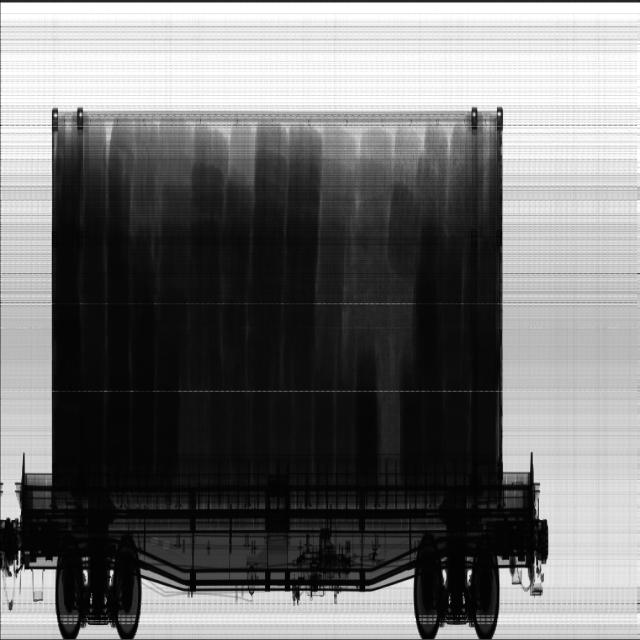clothes: (53, 117, 379, 477)
textile: (321, 129, 498, 464)
